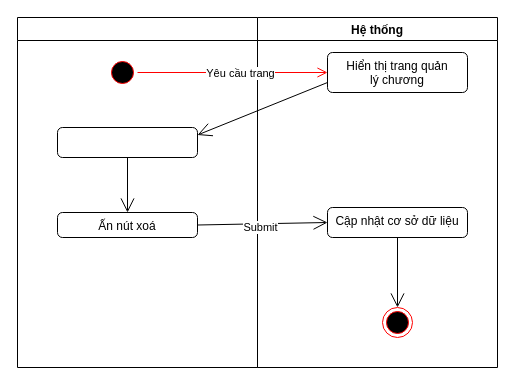
Image size: 515x385. Some labels were removed from this diagram. Each missing label, with the box of its shape:
Admin: (16, 16, 258, 368)
Chọn chương cần xoá: (56, 126, 198, 158)
